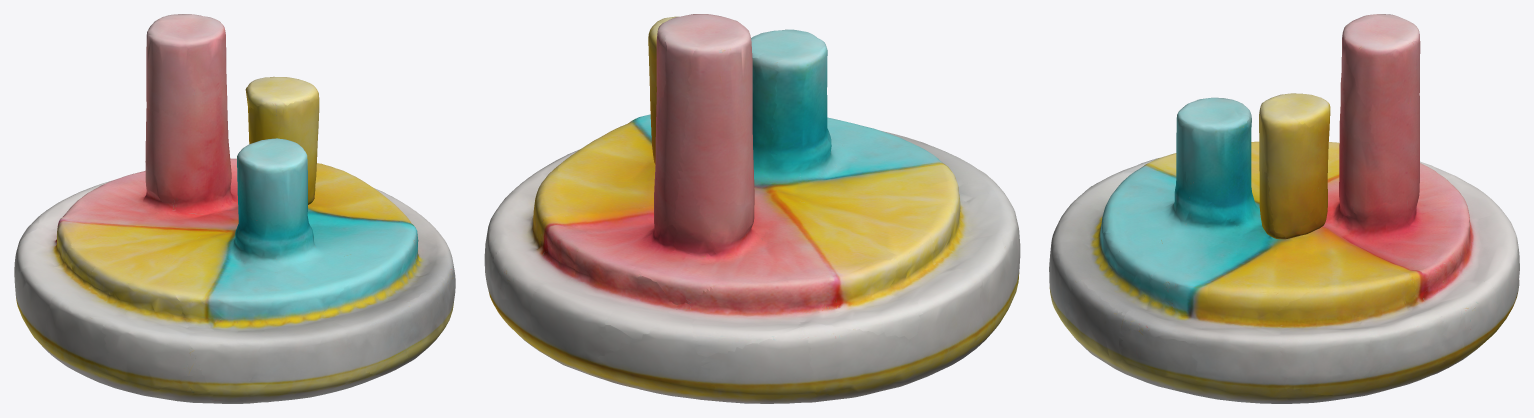
The model's file is pie_chart_l (1).glb.
3 renders of one model, left to right at view 1: azimuth 30°, elevation 25°; view 2: azimuth 150°, elevation 25°; view 3: azimuth 270°, elevation 25°, orthographic. The views are drawn at different scales.
Parts seen in each view (by area): view 1: Object_4; view 2: Object_4; view 3: Object_4.
Part boxes in pixels (left/top/right/bottom): Object_4: left=14, top=14, right=455, bottom=403; Object_4: left=484, top=14, right=1020, bottom=403; Object_4: left=1049, top=14, right=1519, bottom=403.
Bounding box in the file's own units: 0.7922 × 0.5824 × 0.7997.
1 material, 1 textured.
